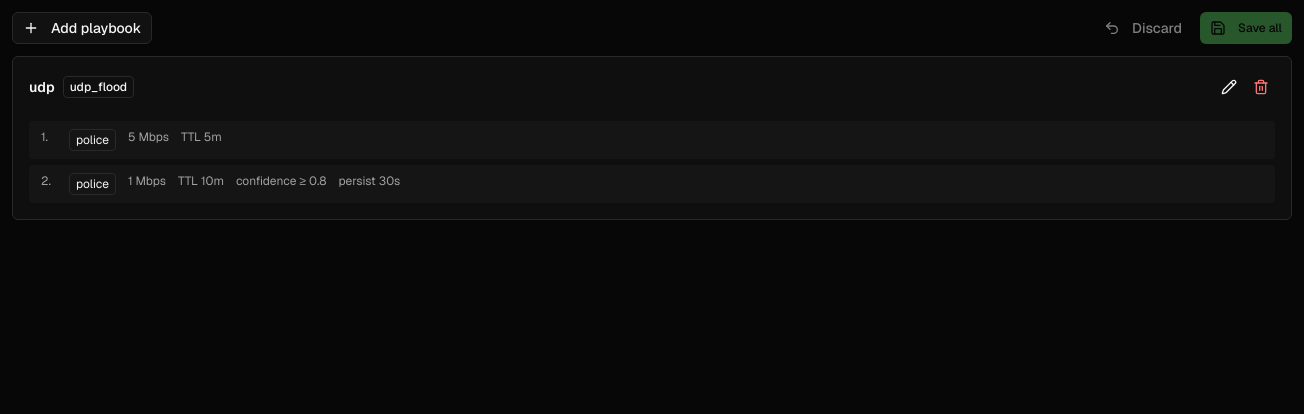
Test: operator configuration accessible names › associates playbook metadata and every editable step parameter
The image size is (1304, 414).
Click the button named "Edit playbook udp": (1229, 87) [1215,73,1243,101]
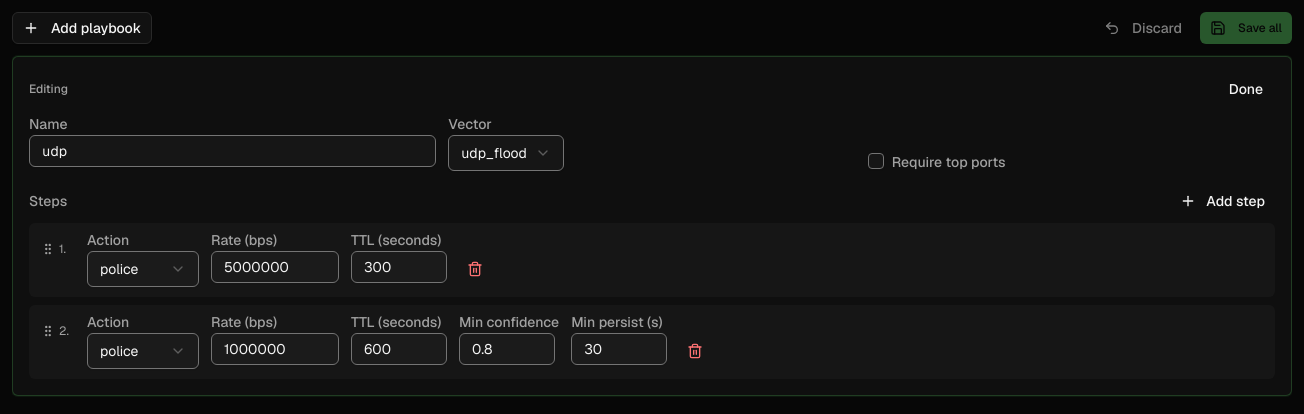
Expected: the field labelled "Name" holds "udp", [29,135,436,167]
Expected: the number of number fields labelled "Rate (bps)" is 2, [211,251,339,283]; [211,333,339,365]
Expected: the number field labelled "Min confidence" holds "0.8", [459,333,555,365]
